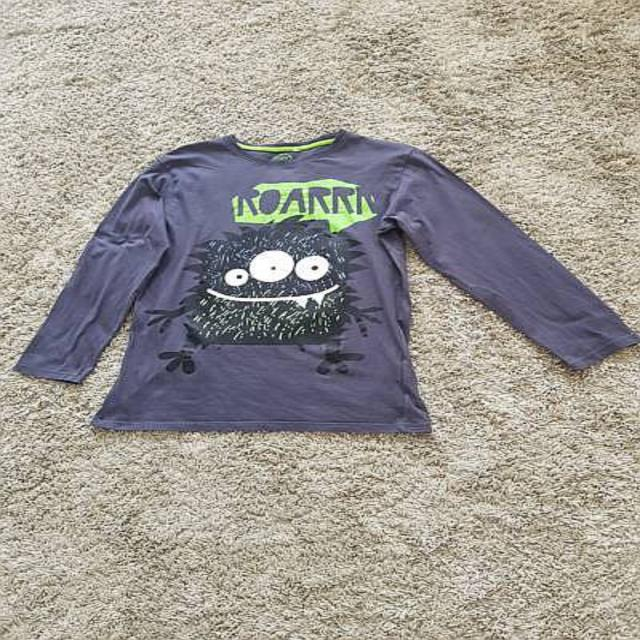SHIRT: (16, 119, 640, 440)
